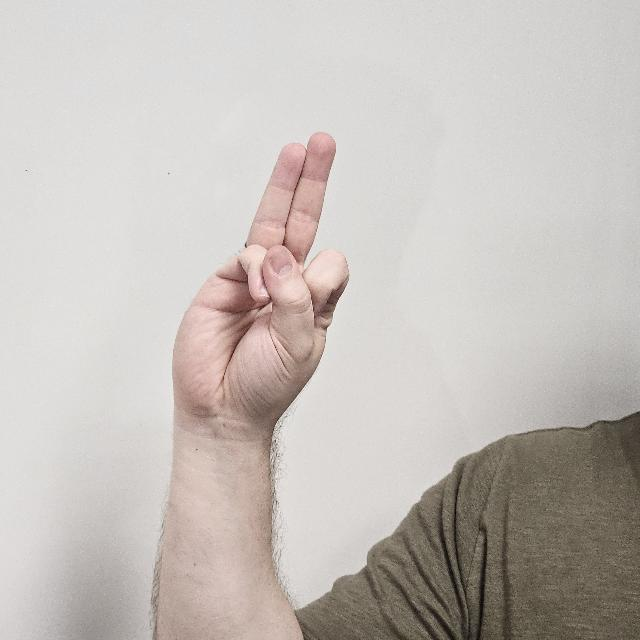R: (174, 132, 352, 450)
